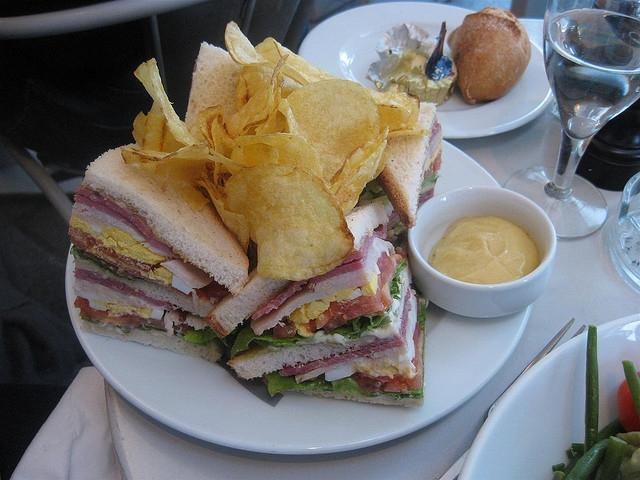green bean: (584, 325, 598, 453), (566, 439, 608, 480), (595, 436, 627, 478), (621, 360, 640, 420)
lettuce: (230, 324, 320, 360), (70, 245, 143, 282), (176, 326, 218, 348), (331, 376, 365, 396), (422, 172, 442, 186)
tomato: (305, 252, 403, 334), (348, 323, 423, 394), (68, 227, 152, 273), (74, 296, 141, 328), (617, 372, 640, 432), (423, 148, 442, 180)
